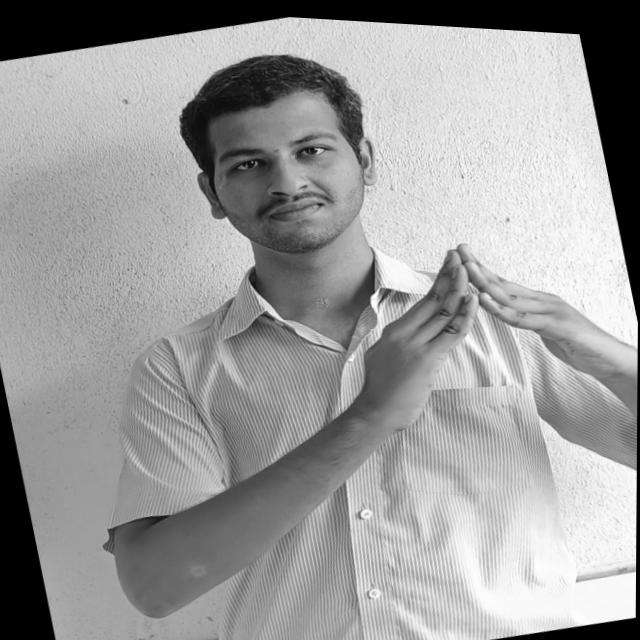Home: (348, 204, 632, 445)
